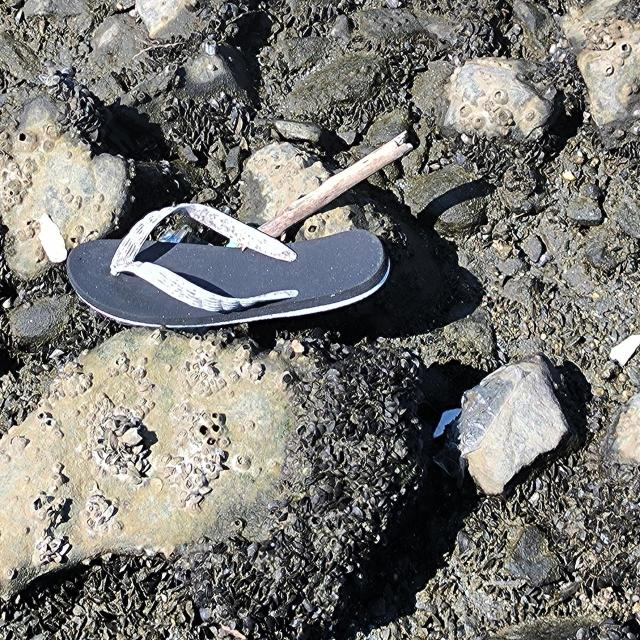rubber_waste: (65, 204, 394, 332)
